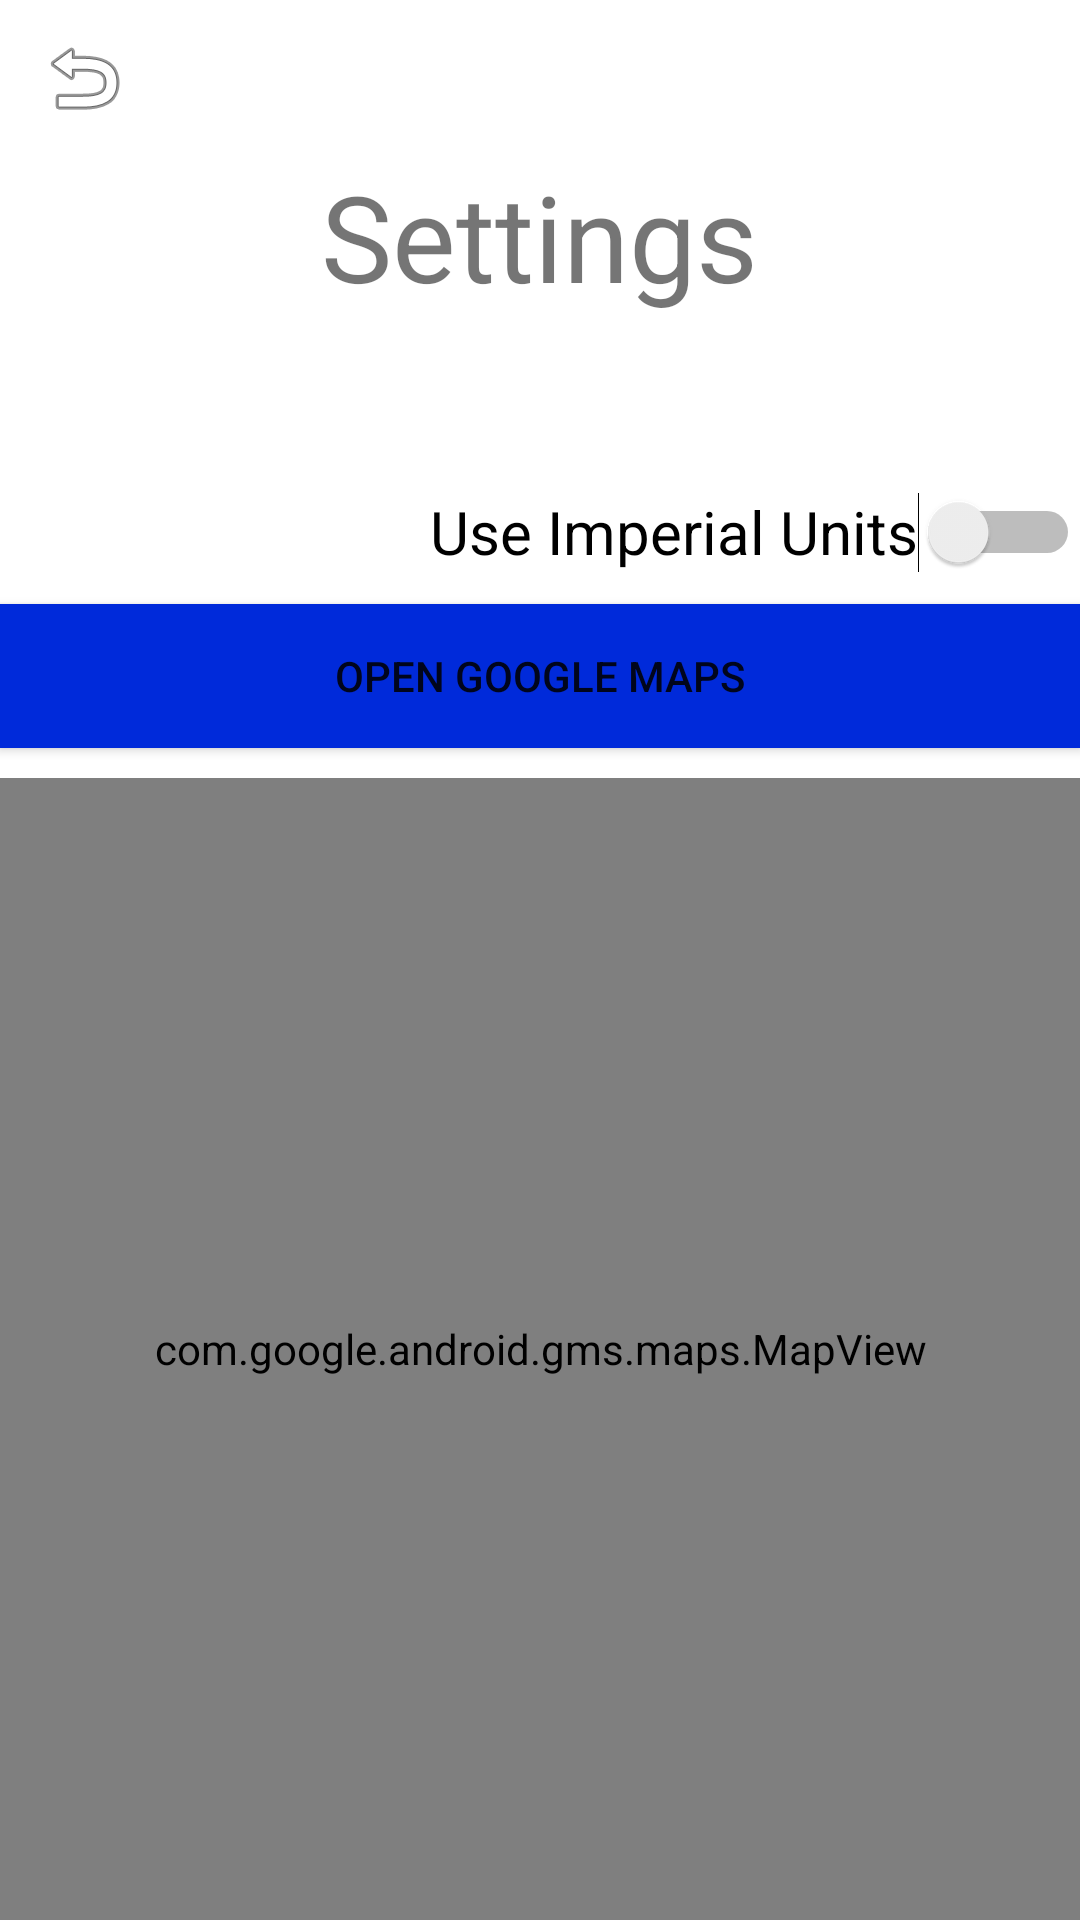

Screen size 1080x1920. Icon name, then its center in pixels as (x=x, y=y):
Back to Main: (x=85, y=78)
